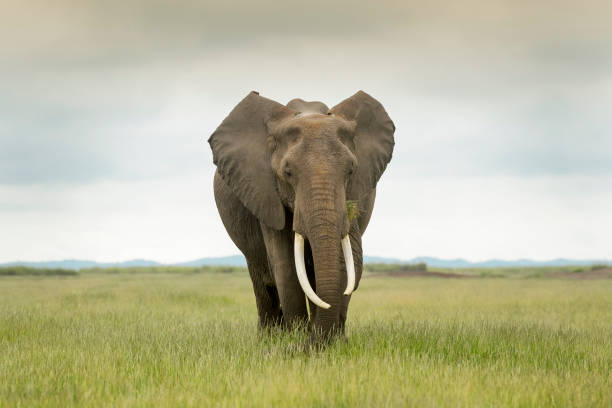africanelephant: (258, 106, 379, 318)
